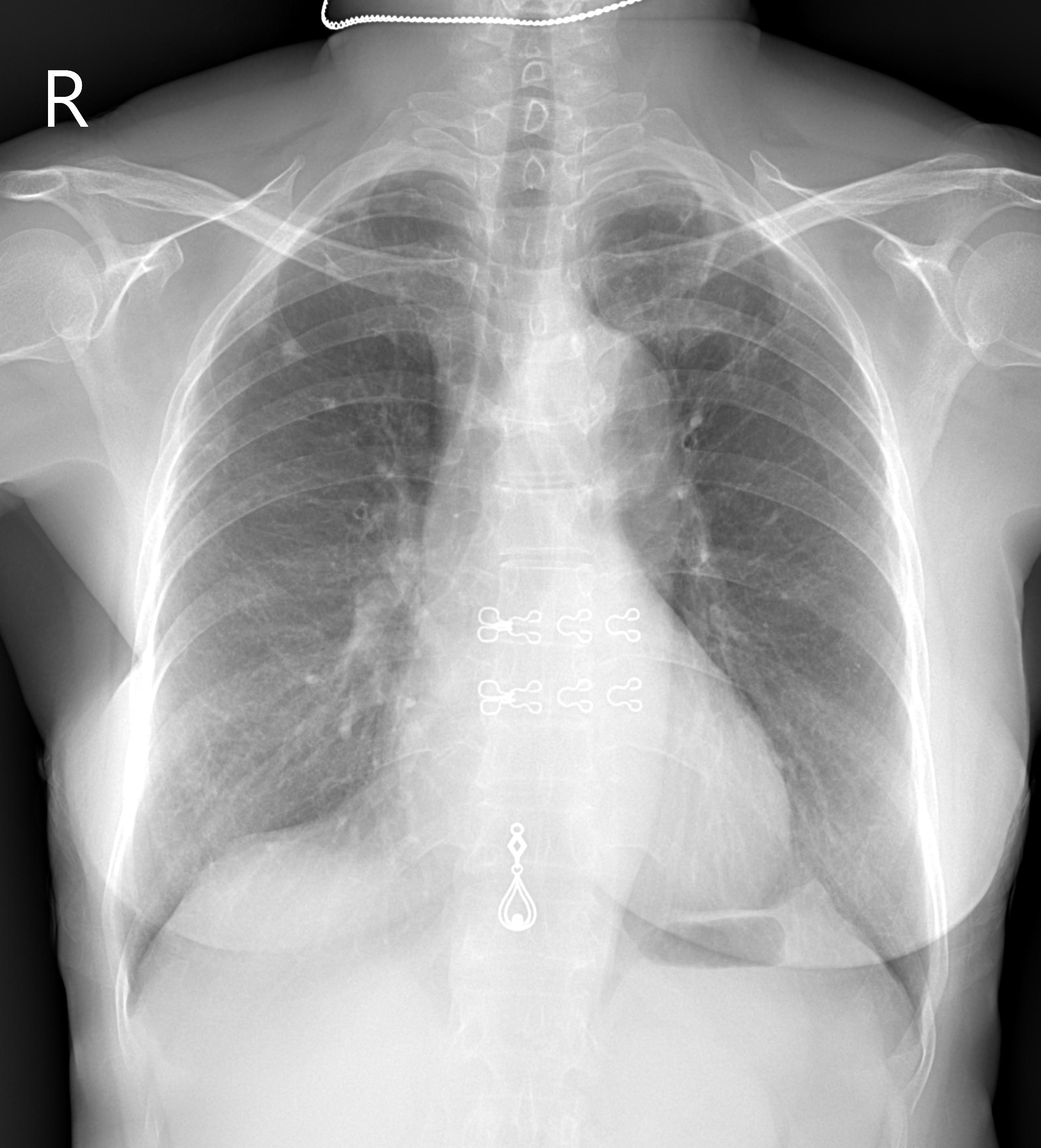Aortic enlargement: (516, 317, 676, 480)
Pleural thickening: (319, 167, 455, 218), (760, 876, 856, 922)
Pulmonary fibrosis: (681, 283, 799, 446), (182, 409, 229, 451), (670, 208, 699, 237)
